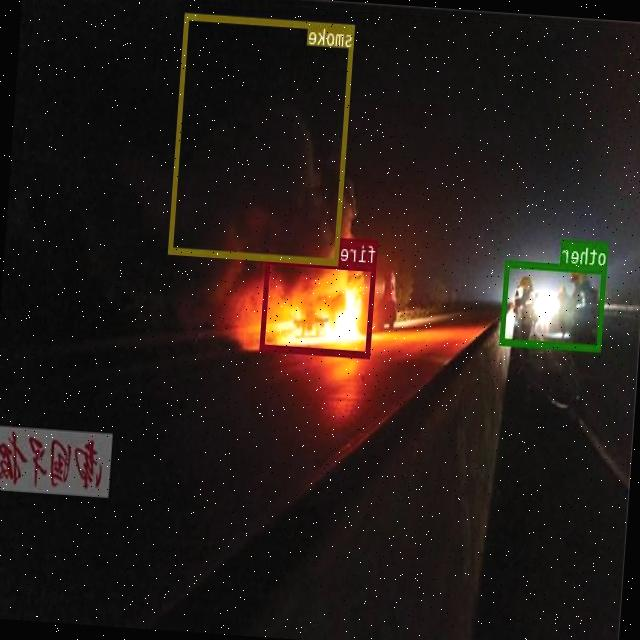fire: (260, 256, 376, 358)
smoke: (168, 12, 356, 263)
